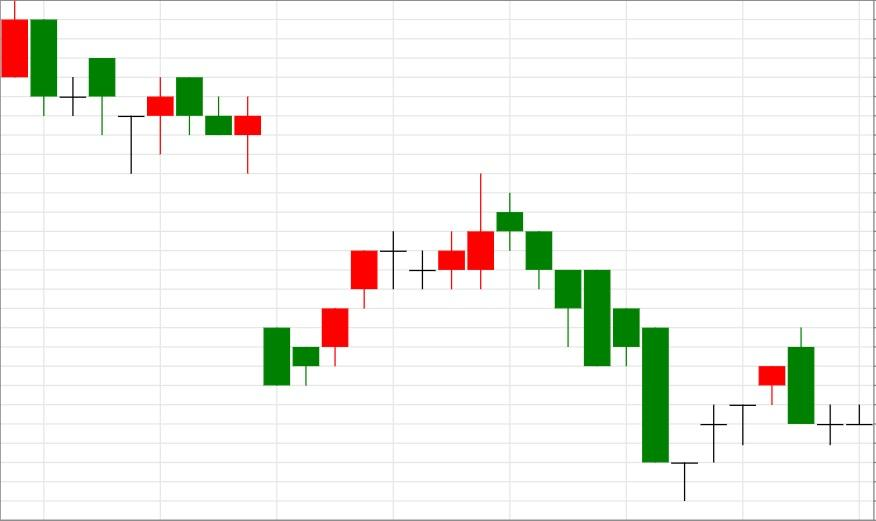bearish_engulfing_fall: (669, 326, 815, 501)
three_black_crows_fall: (408, 174, 583, 347)
